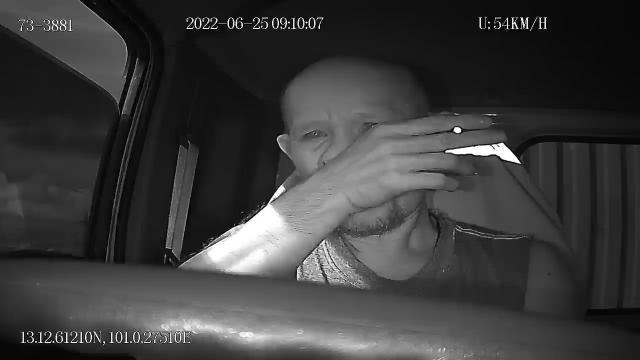Smoking: (454, 124, 464, 136)
